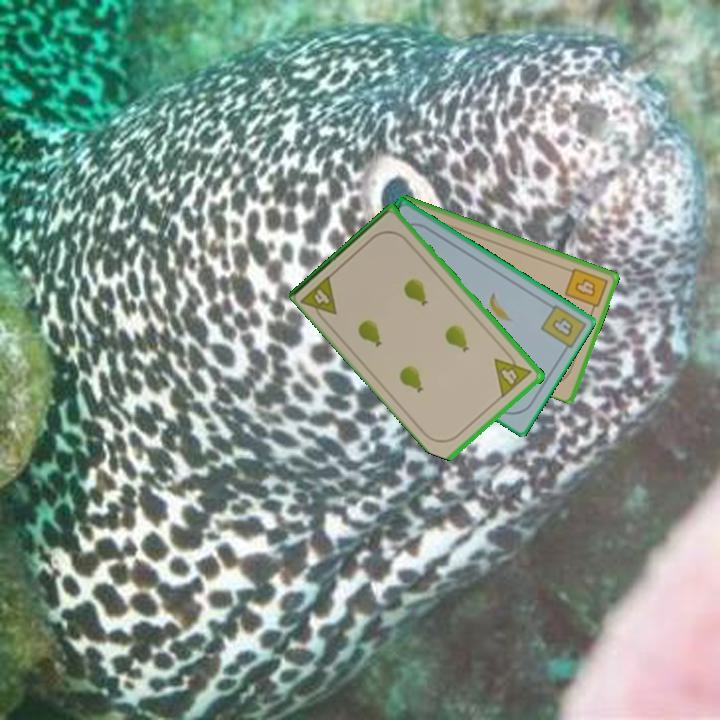4b: (561, 264, 611, 316), (548, 314, 577, 340)
4p: (491, 347, 535, 400), (298, 271, 340, 326)
